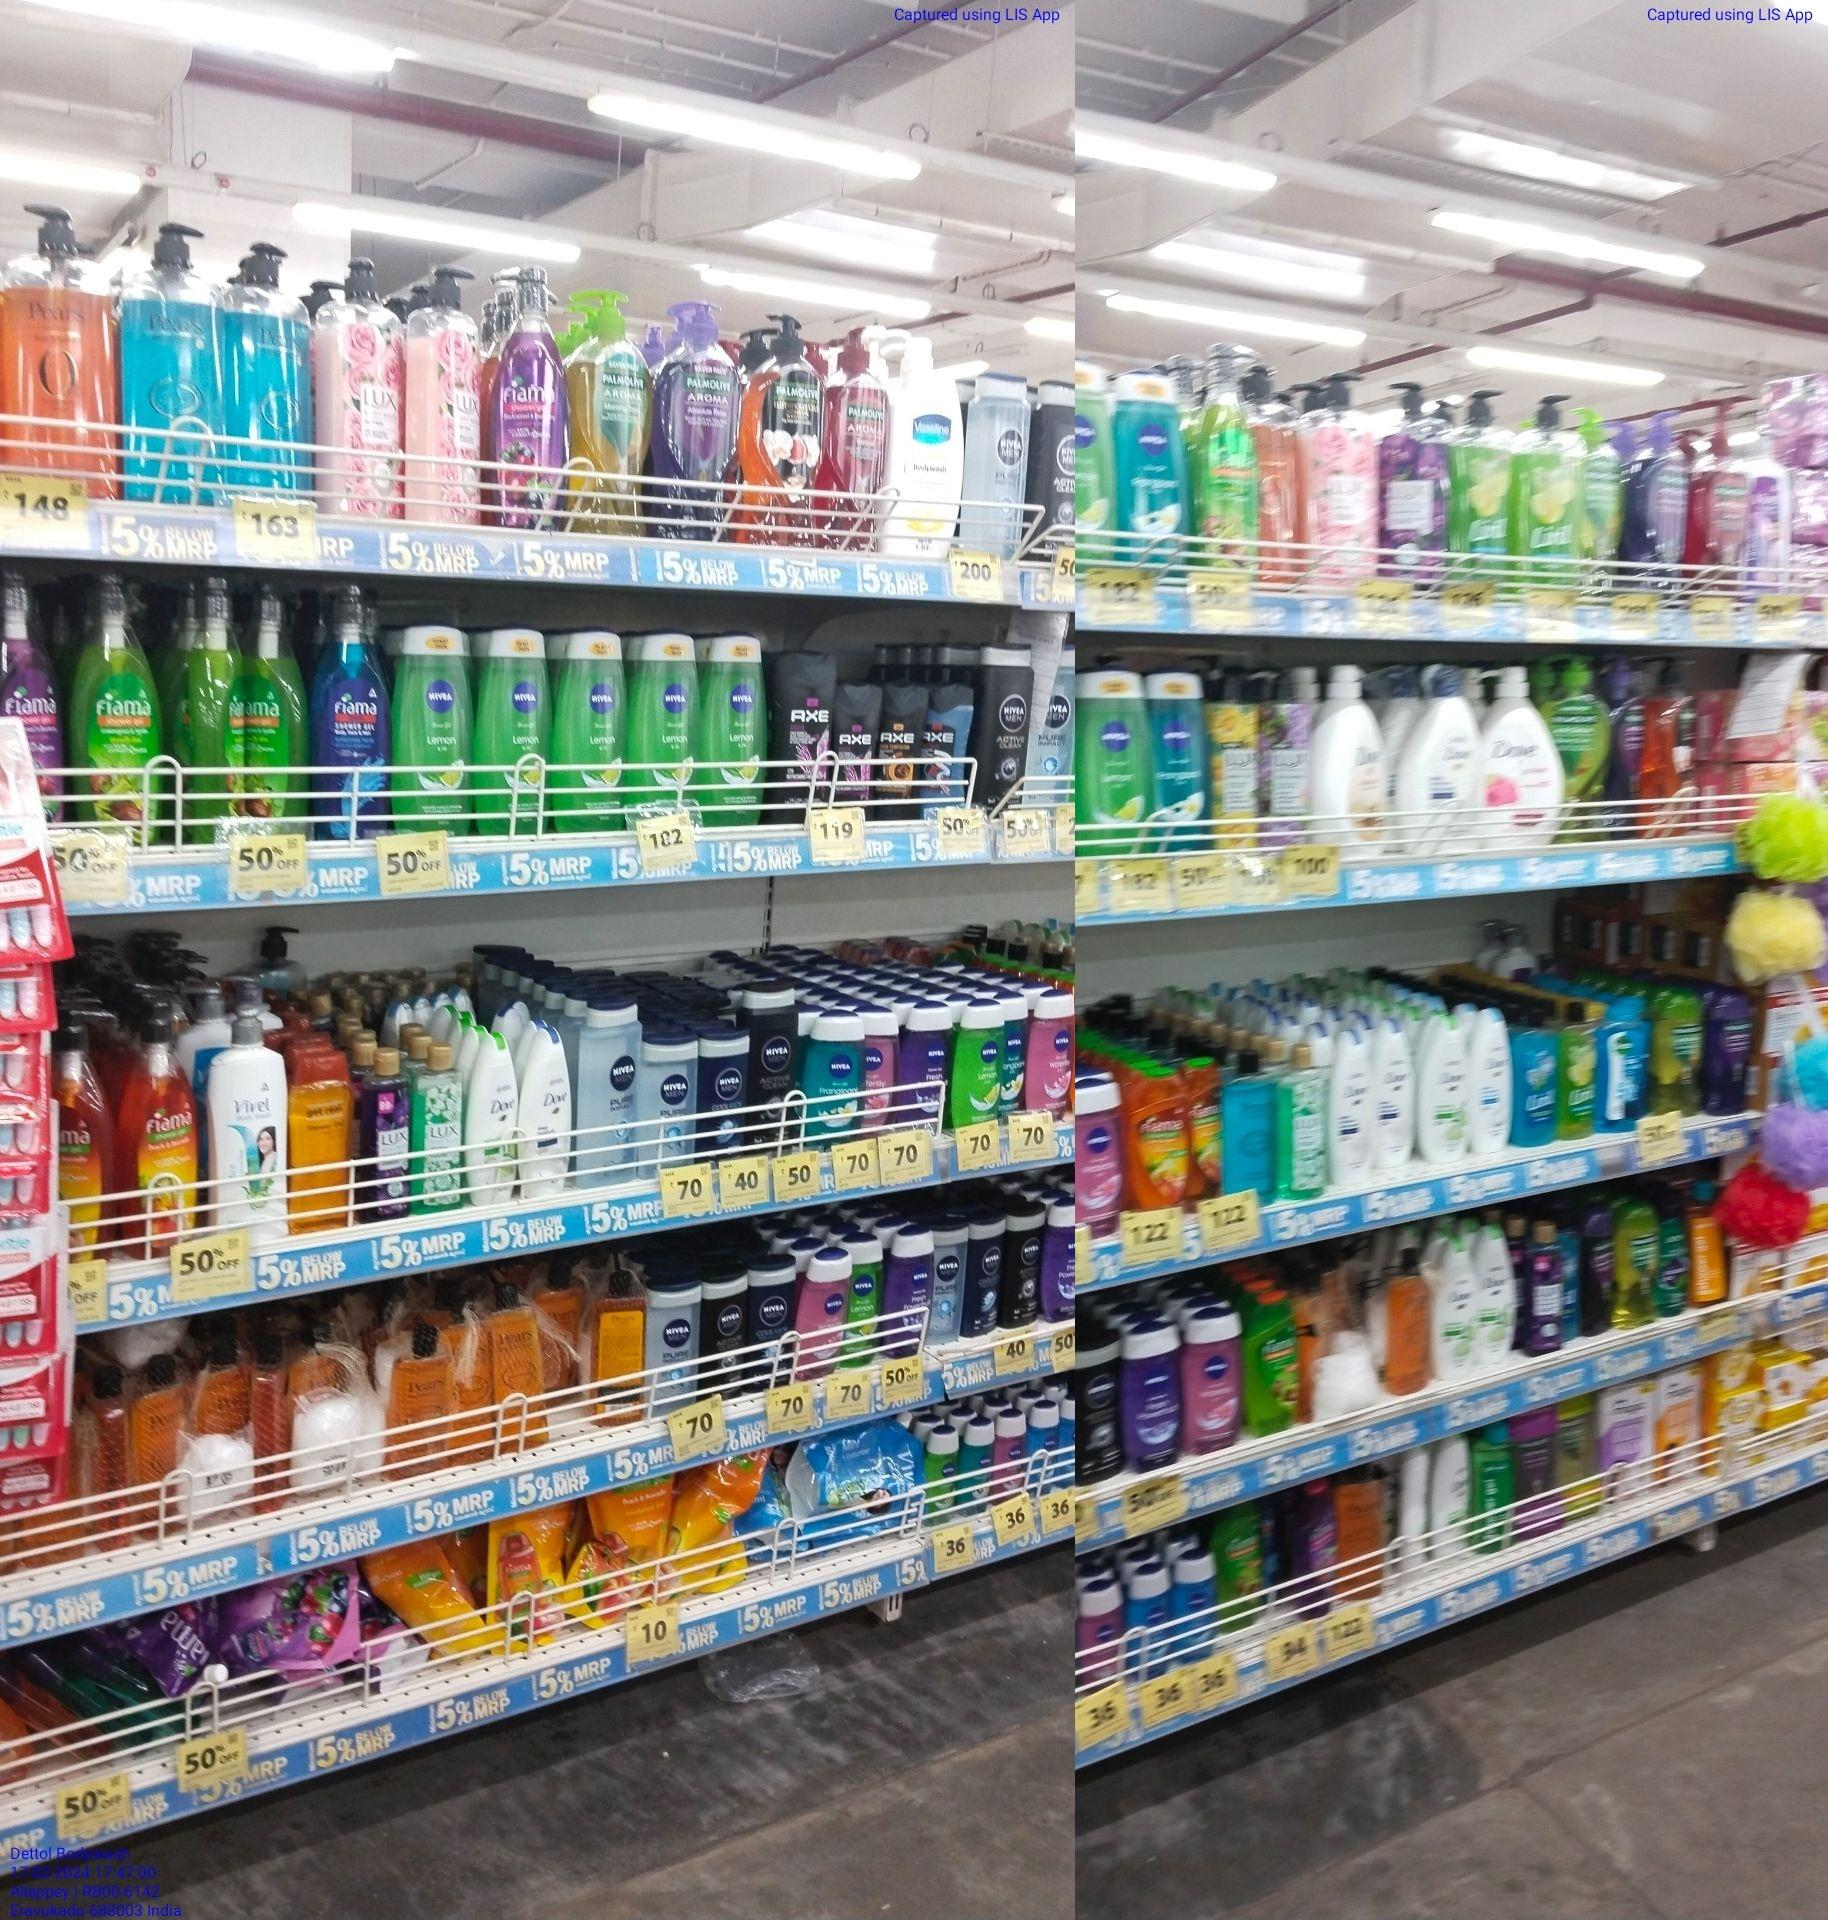Dettol_Bodywash_Cool: (1598, 1003, 1641, 1130)
Dove_Deep_Moisture_Body_Wash_250ML: (521, 1029, 571, 1198), (1329, 1029, 1377, 1188), (1377, 1020, 1415, 1173)
Dove_Gentle_Exfoliating_Body_Wash_250ML: (1476, 1001, 1512, 1159)
Dove_Refreshing_Body_Wash_250ML: (466, 1030, 518, 1203), (1422, 1015, 1473, 1164), (1434, 1239, 1478, 1378), (1478, 1224, 1516, 1361)
Fiama_Shower_Gel_Peach_and_Avocado_250ML: (1132, 1066, 1192, 1207)
Get_Real_Shower_Gel_Moisturising_Glycerin_300ML: (288, 1054, 352, 1227)
Liril_Cooling_Mint_Body_Wash_250ML: (1516, 1006, 1559, 1150)
Liril_Lime_and_Tea_Tree_Oil_Body_Wash_250ML: (1559, 1005, 1595, 1140)
Lux_Black_Orchid_Scent_and_Juniper_Oil_Body_Wash_245ML: (365, 1047, 412, 1219), (1523, 1222, 1566, 1358)
Lux_Body_Wash_Skin_Detox_Freesia_Scent_and_Alove_Vera_245ML: (413, 1044, 465, 1207), (1278, 1044, 1327, 1197)
Nivea_Shower_Gel_Frangipani_and_Oil_250ML: (1116, 370, 1192, 576), (1158, 670, 1212, 850), (801, 1010, 866, 1140)
Nivea_Shower_Gel_Fresh_Powerfruit_250ML: (1121, 1318, 1180, 1467), (897, 1001, 950, 1125), (887, 1224, 935, 1359)
Nivea_Shower_Gel_Lemon_and_Oil_250ML: (396, 627, 473, 833), (478, 627, 552, 833), (1079, 670, 1156, 852), (557, 631, 622, 831), (628, 634, 701, 809), (705, 636, 765, 826), (952, 1003, 1005, 1128)
Nivea_Shower_Gel_Waterlily_and_Oil_250ML: (1182, 1306, 1240, 1452), (1075, 1078, 1125, 1238), (794, 1248, 844, 1385), (1024, 999, 1072, 1121)
Palmolive_Aroma_Morning_Tonic_Shower_Gel_250ML: (1614, 1203, 1657, 1330)
Palmolive_Aroma_Relax_250ML: (1706, 989, 1753, 1116)
Pears_Pure_Glycerin_and_Mint_Extracts_Body_Wash_250ML: (1218, 1051, 1271, 1203)
